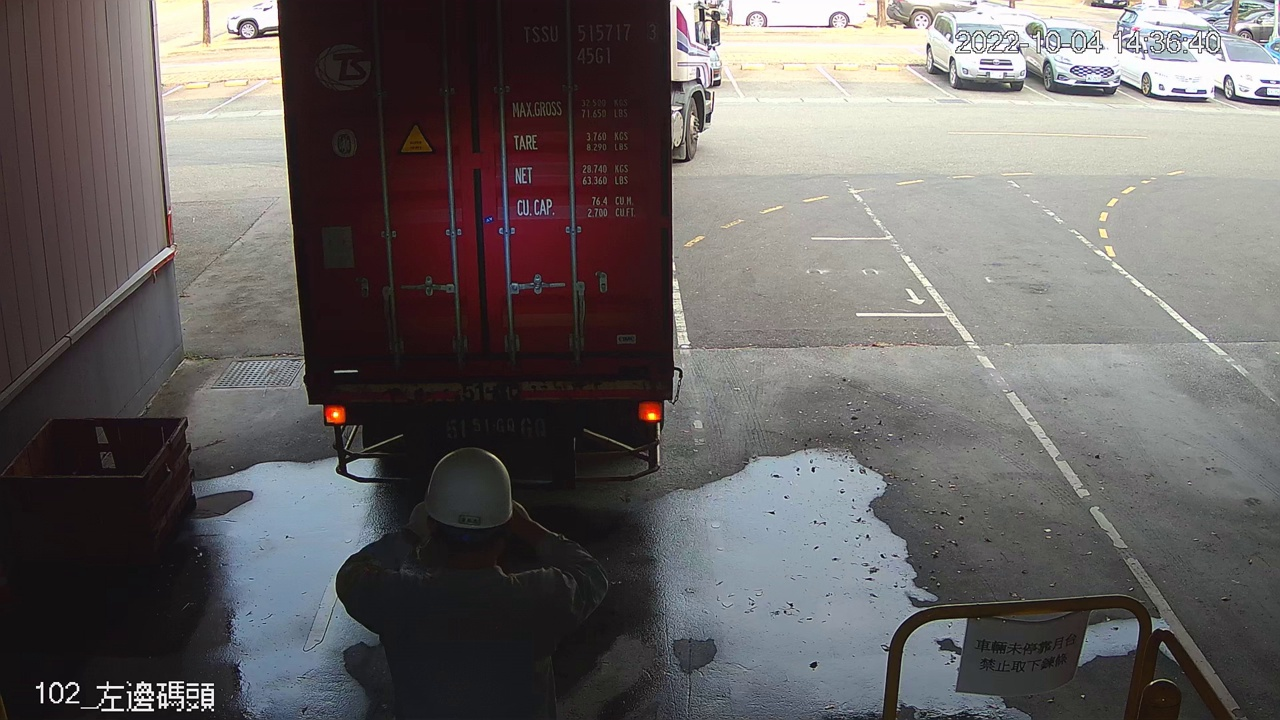container: (516, 16, 664, 69)
